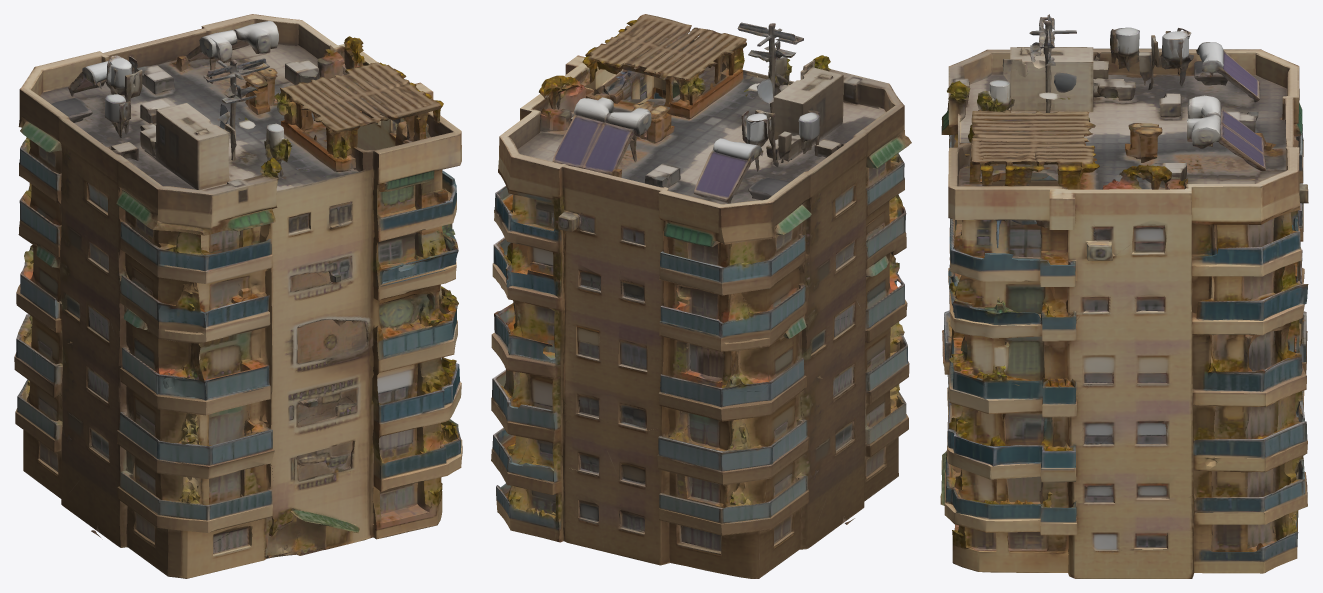
File: r3_block8_c.glb
3 views of the same model, side by side, from view 1: azimuth 30°, elevation 25°; view 2: azimuth 150°, elevation 25°; view 3: azimuth 270°, elevation 25° (orthographic). The views are drawn at different scales.
Visible parts, largest first — view 1: geometry_0; view 2: geometry_0; view 3: geometry_0.
Boxes of the visible parts, box(x1,y1,x2,y2) form: geometry_0: box(14, 14, 462, 578); geometry_0: box(491, 14, 911, 578); geometry_0: box(940, 14, 1308, 578).
Bounding box in the file's own units: 20 × 28 × 20.
1 material, 1 textured.
